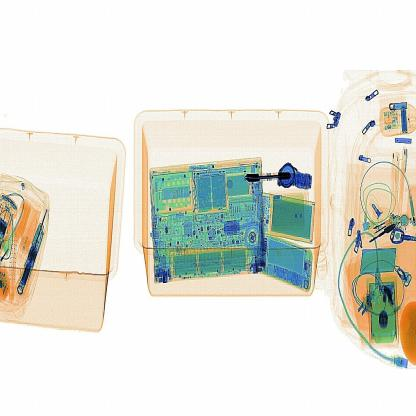knife: (245, 169, 292, 187)
